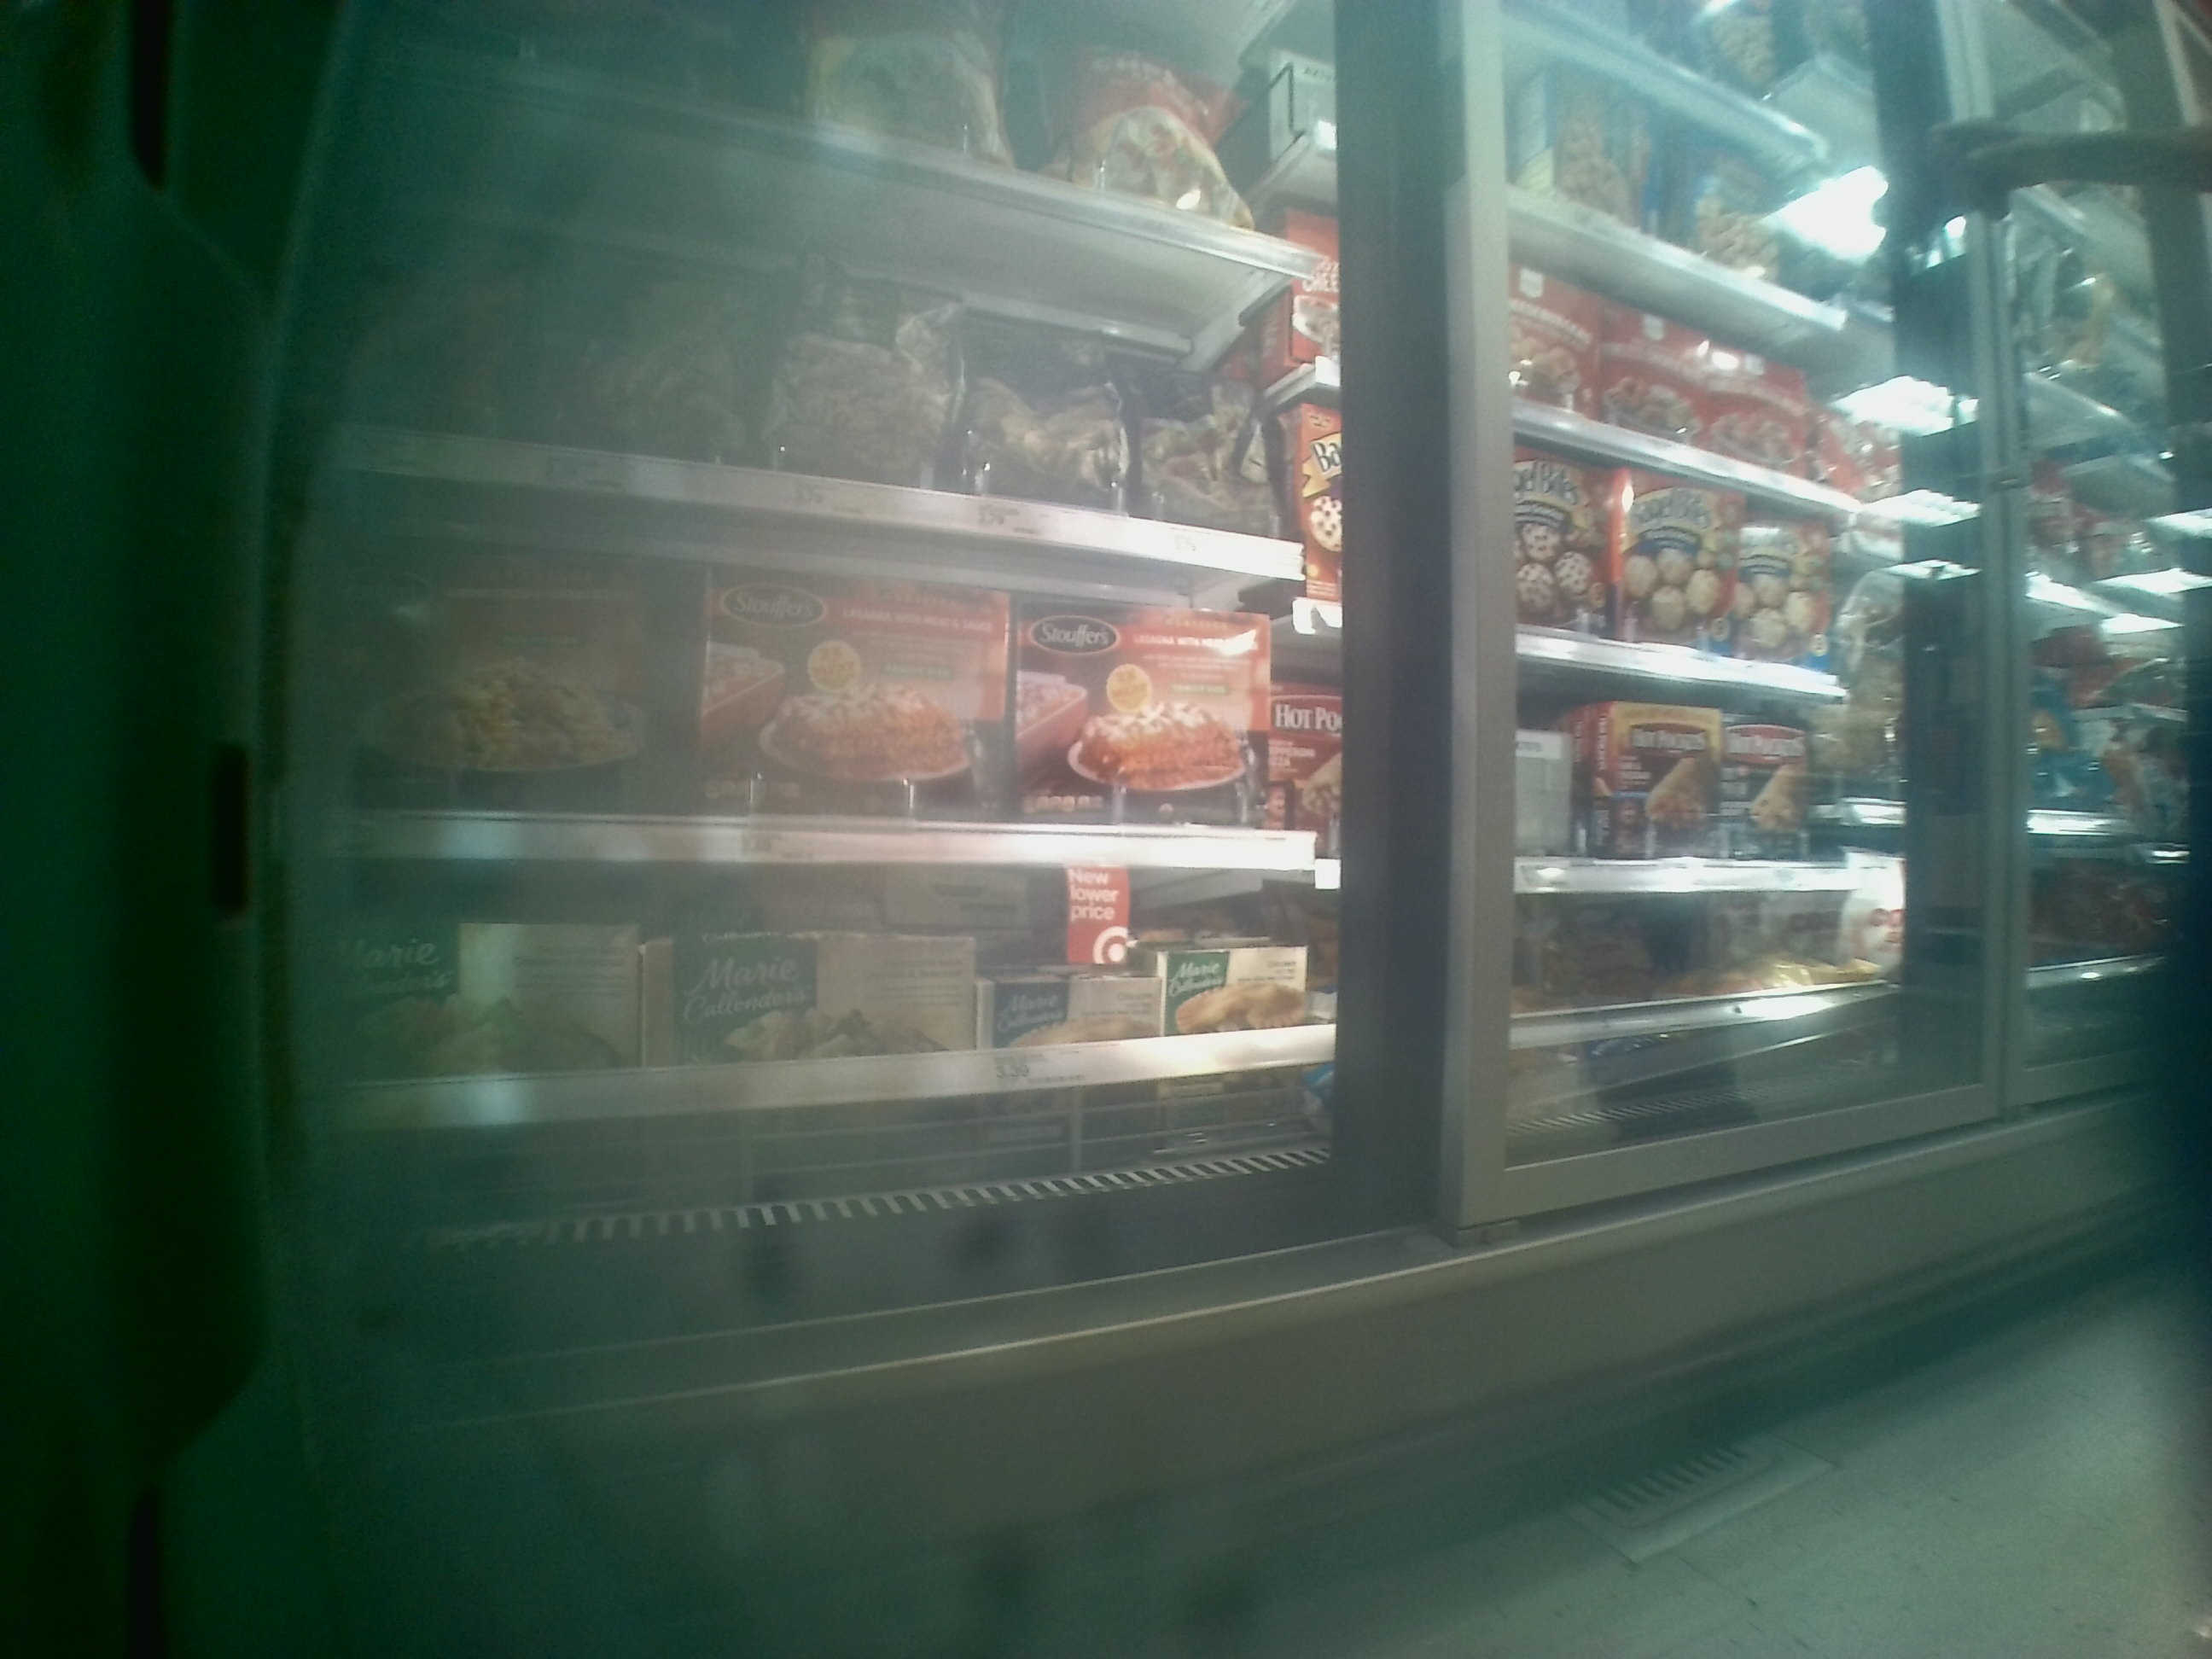shelf: (350, 842, 1339, 1180)
